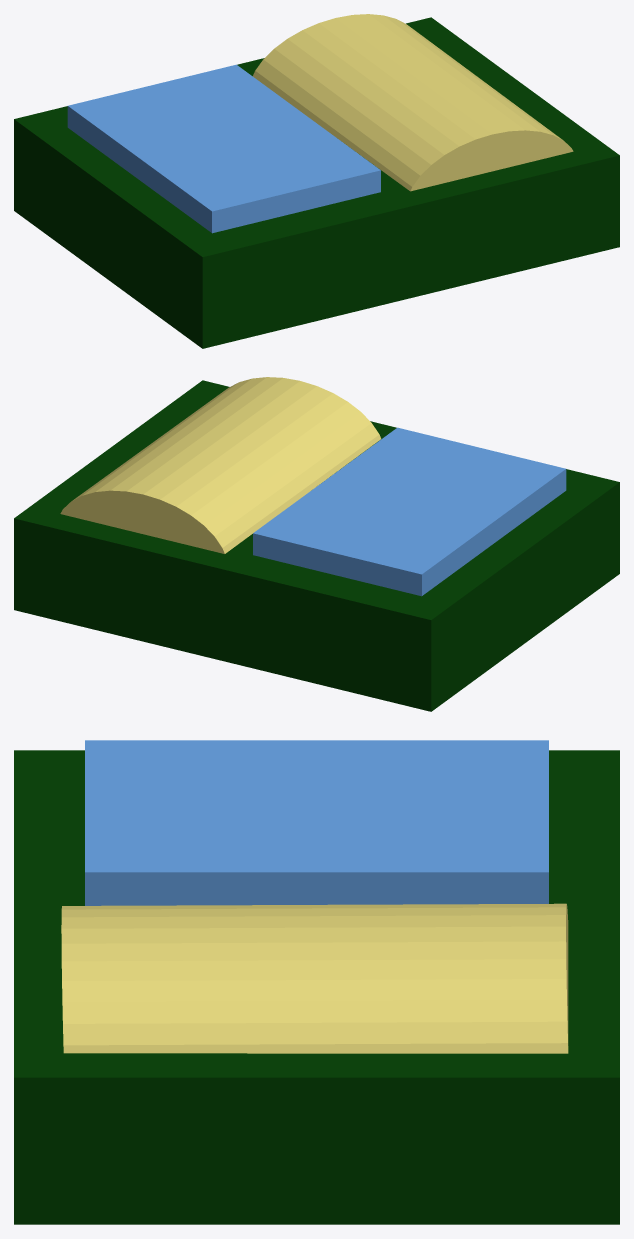
The model's file is Defusal.glb.
3 renders of one model, top to bottom at view 1: azimuth 30°, elevation 25°; view 2: azimuth 150°, elevation 25°; view 3: azimuth 270°, elevation 25°, orthographic. The views are drawn at different scales.
Parts seen in each view (by area): view 1: Cube, Cube.001, Cylinder; view 2: Cube, Cube.001, Cylinder; view 3: Cube, Cube.001, Cylinder.
Part boxes in pixels (bbox=[...]): Cube: bbox=[14, 17, 619, 348]; Cube.001: bbox=[67, 64, 380, 233]; Cylinder: bbox=[252, 14, 573, 191]; Cube: bbox=[14, 380, 619, 711]; Cube.001: bbox=[253, 427, 566, 596]; Cylinder: bbox=[60, 377, 381, 553]; Cube: bbox=[14, 750, 619, 1224]; Cube.001: bbox=[85, 740, 548, 905]; Cylinder: bbox=[61, 903, 568, 1053].
Bounding box in the file's own units: 4.94 × 1.48 × 3.87.
